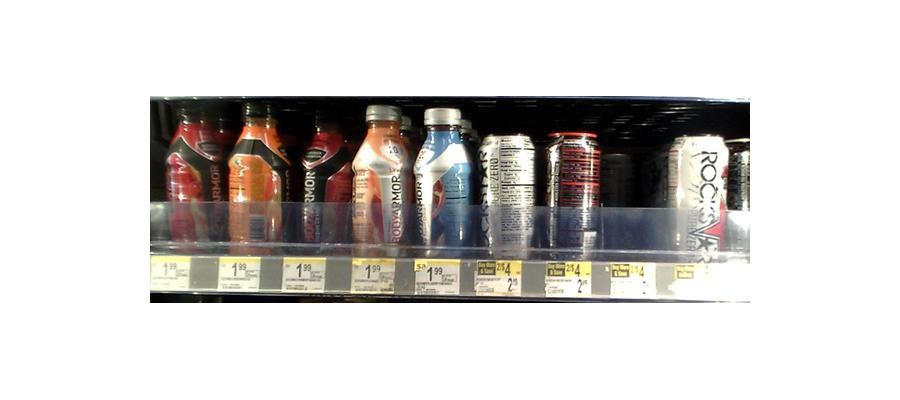bottle: (163, 93, 225, 246), (348, 101, 408, 256), (227, 93, 285, 252), (412, 106, 471, 257), (478, 132, 539, 259), (666, 133, 724, 263), (294, 108, 347, 248), (546, 130, 598, 259), (604, 145, 652, 255)
